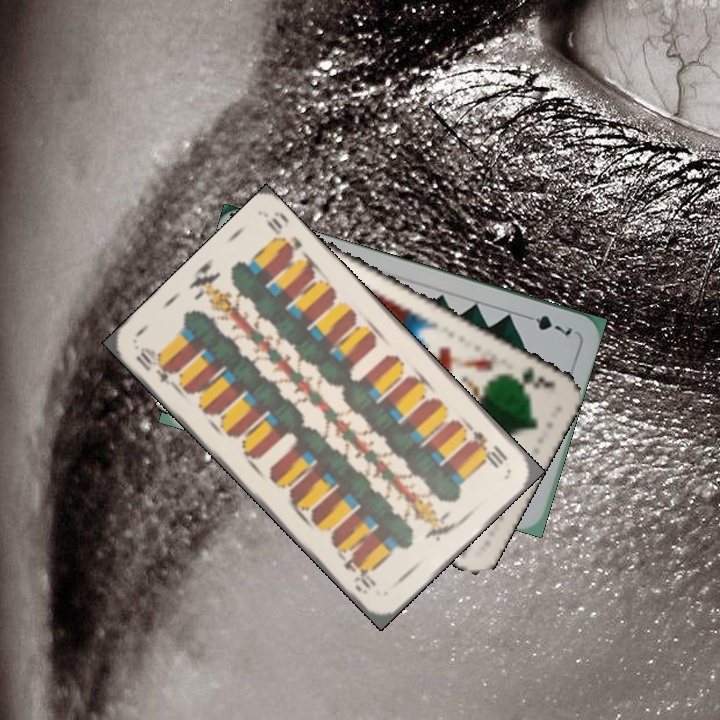E10: (131, 343, 179, 390), (466, 427, 511, 471)
G7: (519, 310, 575, 339)
GK: (517, 362, 560, 392)
